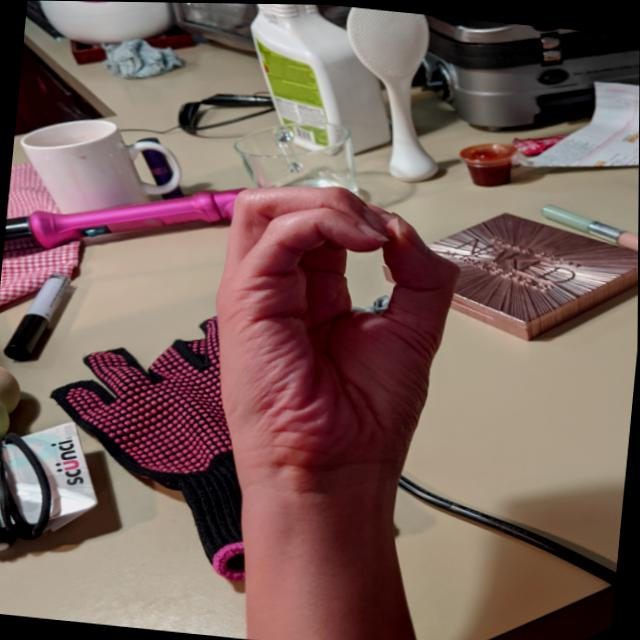O: (190, 168, 476, 507)
